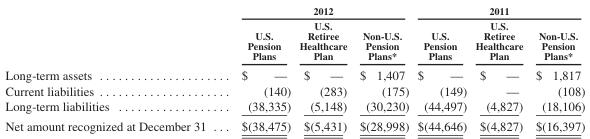table: (4, 4, 584, 132)
table column: (4, 4, 223, 132), (223, 4, 294, 132), (352, 4, 412, 132), (294, 4, 352, 132), (412, 4, 470, 132), (470, 4, 528, 132), (528, 4, 584, 132)
table column header: (4, 4, 584, 64)
table row: (4, 17, 584, 64), (4, 64, 584, 82), (4, 97, 584, 115), (4, 115, 584, 132), (4, 82, 584, 97), (4, 4, 584, 17)
table spanning cell: (223, 4, 412, 17), (412, 4, 584, 17)
